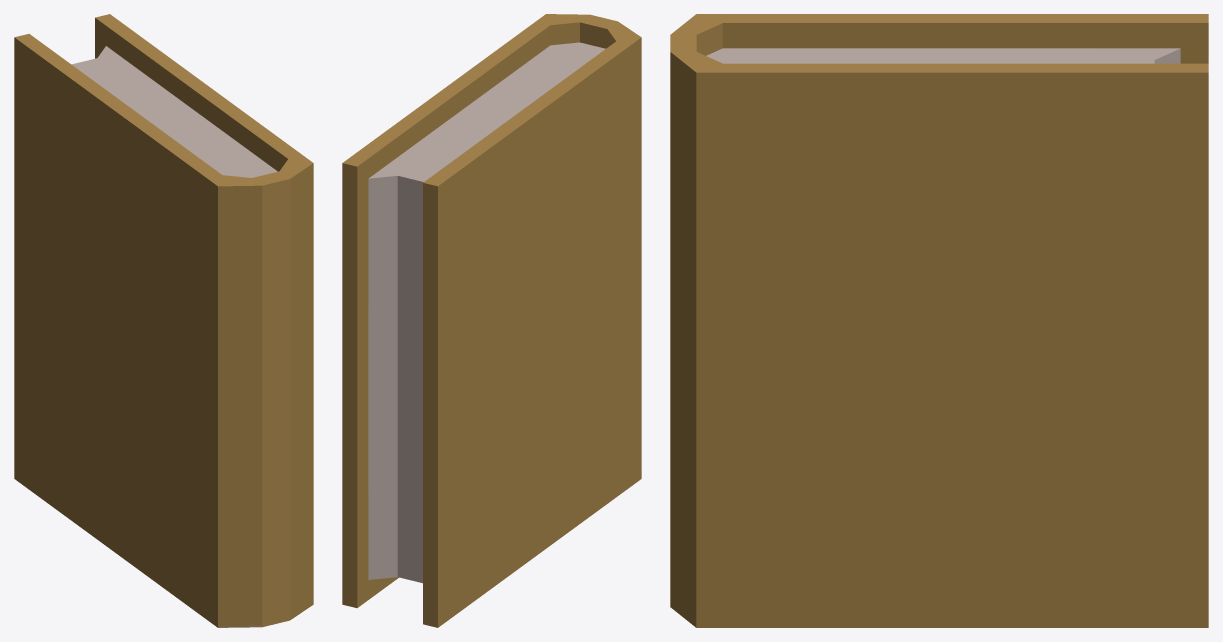
File: livre02.FBX
The picture shows the model from 3 angles, left to right: view 1: azimuth 30°, elevation 25°; view 2: azimuth 150°, elevation 25°; view 3: azimuth 270°, elevation 25°; orthographic projection. The views are drawn at different scales.
Parts seen in each view (by area): view 1: livre02; view 2: livre02; view 3: livre02.
Part boxes in pixels (box(x1,y1,x2,y2)): livre02: box(14, 14, 313, 627); livre02: box(342, 14, 641, 627); livre02: box(670, 14, 1208, 627).
Size of the model in its own units: 4.95 by 21.86 by 19.2.
1 material, 1 textured.
